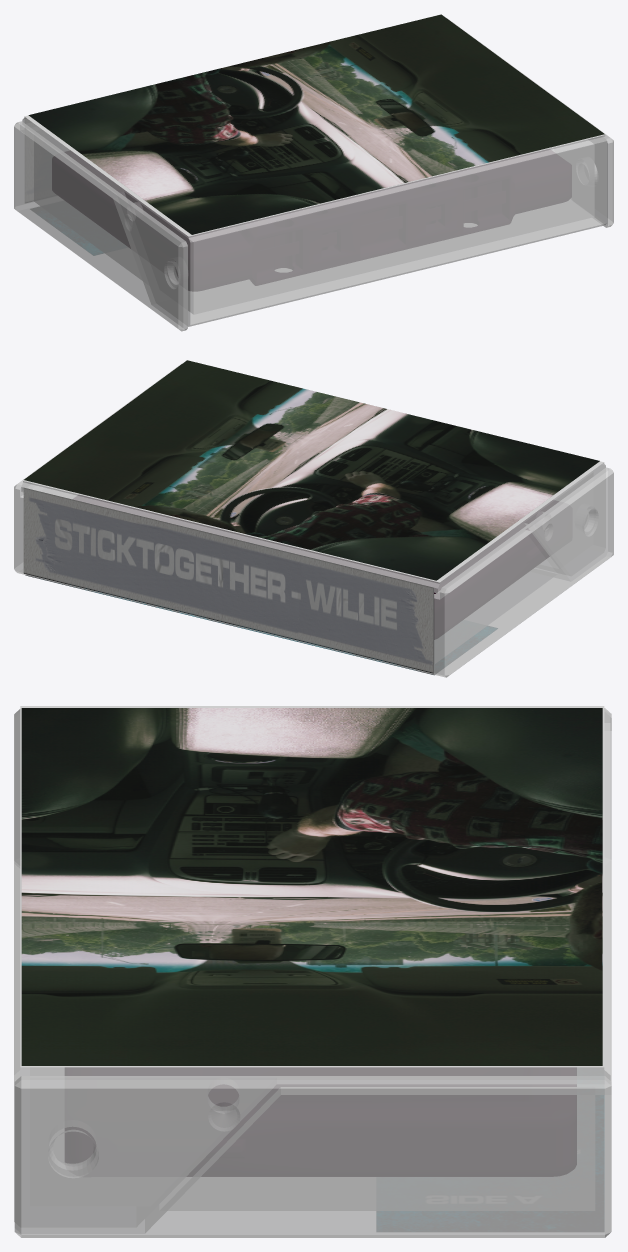
The model's file is cassette3.glb.
3 views of the same model, one above another, from view 1: azimuth 30°, elevation 25°; view 2: azimuth 150°, elevation 25°; view 3: azimuth 270°, elevation 25° (orthographic). The views are drawn at different scales.
Visible parts, largest first — view 1: willietape, Microcassette-Case, Tape, Microcassette-Case.001, Microcassette-Case.002, tapeback, tapeside; view 2: willietape, tapeside, Microcassette-Case.001, Microcassette-Case, Tape, Microcassette-Case.002, tapeback; view 3: willietape, Microcassette-Case.001, Microcassette-Case, Tape, tapeback, Microcassette-Case.002.
Part boxes in pixels (x1,y1,x2,y2): willietape: [28, 14, 604, 234]; Microcassette-Case: [22, 116, 607, 326]; Tape: [52, 149, 571, 290]; Microcassette-Case.001: [14, 17, 613, 331]; Microcassette-Case.002: [24, 115, 604, 236]; tapeback: [30, 207, 102, 255]; tapeside: [25, 118, 36, 202]; willietape: [24, 360, 599, 580]; tapeside: [23, 488, 433, 673]; Microcassette-Case.001: [14, 364, 613, 677]; Microcassette-Case: [21, 462, 605, 593]; Tape: [73, 495, 558, 639]; Microcassette-Case.002: [23, 461, 603, 582]; tapeback: [25, 575, 497, 675]; willietape: [21, 708, 602, 1065]; Microcassette-Case.001: [14, 708, 611, 1237]; Microcassette-Case: [14, 709, 610, 1226]; Tape: [65, 1068, 576, 1176]; tapeback: [377, 1095, 603, 1231]; Microcassette-Case.002: [20, 706, 604, 1067].
Bounding box in the file's own units: 2.21 × 0.458 × 1.48.
5 materials, 3 textured.
